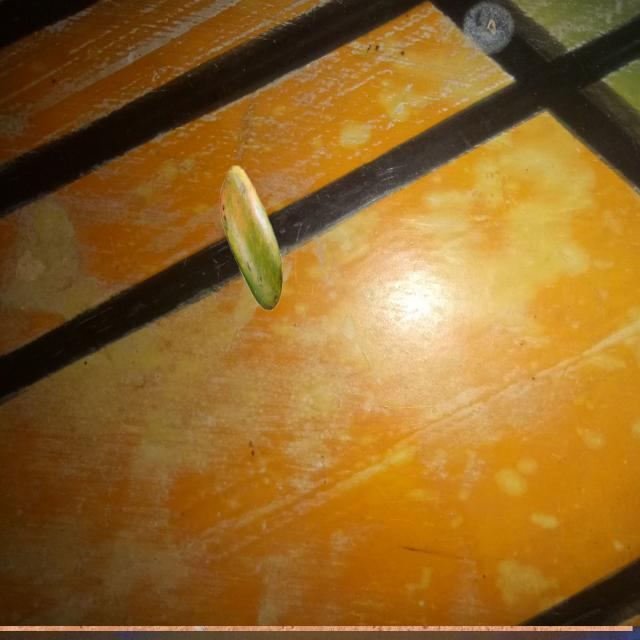Pepaya rippen: (206, 151, 295, 323)
